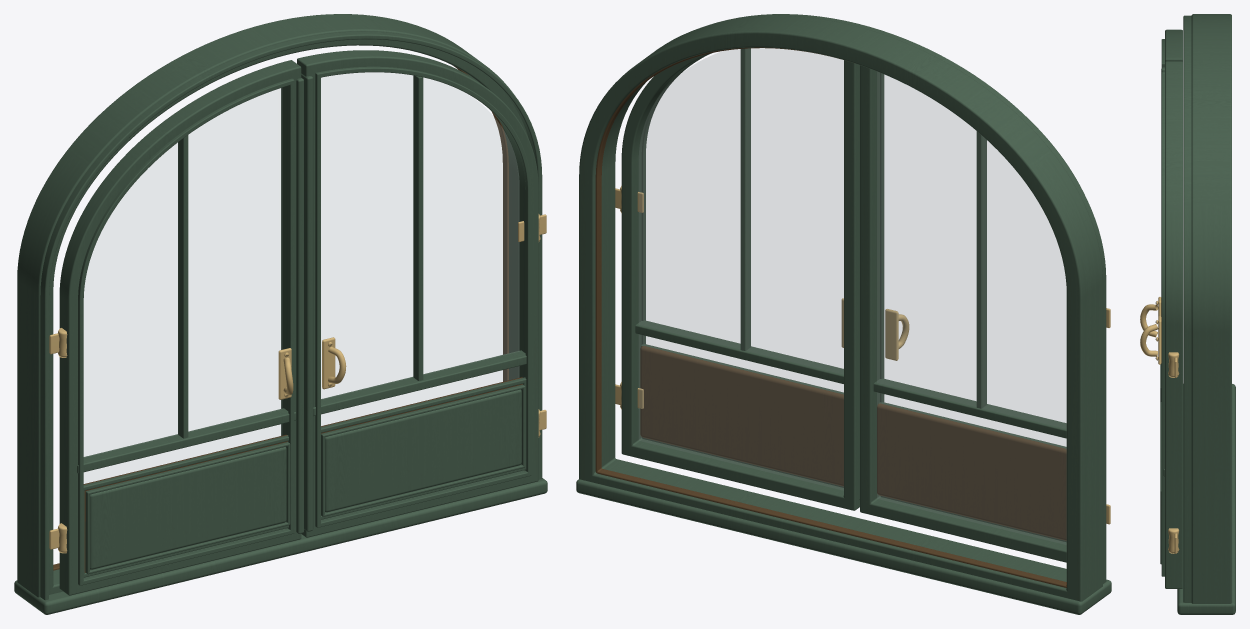
File: front-room-03.glb
3 renders of one model, left to right at view 1: azimuth 30°, elevation 25°; view 2: azimuth 150°, elevation 25°; view 3: azimuth 270°, elevation 25°, orthographic. The views are drawn at different scales.
Parts seen in each view (by area): view 1: hinge_right__Joinery_clear_glass, hinge_left__Joinery_clear_glass, hinge_left__Joinery_forest_green, hinge_right__Joinery_forest_green, frame__Joinery_forest_green, frame__Joinery_recessed_walnut, hinge_left__Joinery_brass_fittings, hinge_right__Joinery_brass_fittings, hinge_left__Joinery_recessed_walnut; view 2: hinge_right__Joinery_clear_glass, hinge_left__Joinery_clear_glass, frame__Joinery_forest_green, hinge_right__Joinery_forest_green, hinge_left__Joinery_forest_green, hinge_right__Joinery_recessed_walnut, hinge_left__Joinery_recessed_walnut, frame__Joinery_recessed_walnut, hinge_right__Joinery_brass_fittings; view 3: frame__Joinery_forest_green, hinge_right__Joinery_forest_green, hinge_left__Joinery_forest_green, hinge_right__Joinery_brass_fittings, hinge_left__Joinery_brass_fittings, frame__Joinery_brass_fittings.
Boxes of the visible parts, box(x1,y1,x2,y2) form: hinge_right__Joinery_clear_glass: box(321, 72, 519, 425); hinge_left__Joinery_clear_glass: box(84, 88, 281, 483); hinge_left__Joinery_forest_green: box(59, 60, 313, 595); hinge_right__Joinery_forest_green: box(296, 50, 538, 537); frame__Joinery_forest_green: box(14, 14, 547, 614); frame__Joinery_recessed_walnut: box(53, 65, 508, 570); hinge_left__Joinery_brass_fittings: box(58, 328, 346, 553); hinge_right__Joinery_brass_fittings: box(278, 214, 540, 437); hinge_left__Joinery_recessed_walnut: box(83, 434, 287, 572); hinge_right__Joinery_clear_glass: box(639, 48, 843, 490); hinge_left__Joinery_clear_glass: box(877, 72, 1066, 544); frame__Joinery_forest_green: box(576, 14, 1111, 614); hinge_right__Joinery_forest_green: box(621, 48, 859, 510); hinge_left__Joinery_forest_green: box(859, 65, 1078, 562); hinge_right__Joinery_recessed_walnut: box(640, 346, 843, 486); hinge_left__Joinery_recessed_walnut: box(877, 403, 1066, 540); frame__Joinery_recessed_walnut: box(595, 47, 1066, 587); hinge_right__Joinery_brass_fittings: box(620, 186, 909, 409); frame__Joinery_forest_green: box(1177, 14, 1235, 614); hinge_right__Joinery_forest_green: box(1160, 61, 1182, 588); hinge_left__Joinery_forest_green: box(1160, 29, 1182, 401); hinge_right__Joinery_brass_fittings: box(1140, 297, 1179, 553); hinge_left__Joinery_brass_fittings: box(1140, 316, 1161, 364); frame__Joinery_brass_fittings: box(1174, 357, 1177, 553).
Bounding box in the file's own units: 2.78 × 2.69 × 0.5078.
5 materials, 2 textured.
